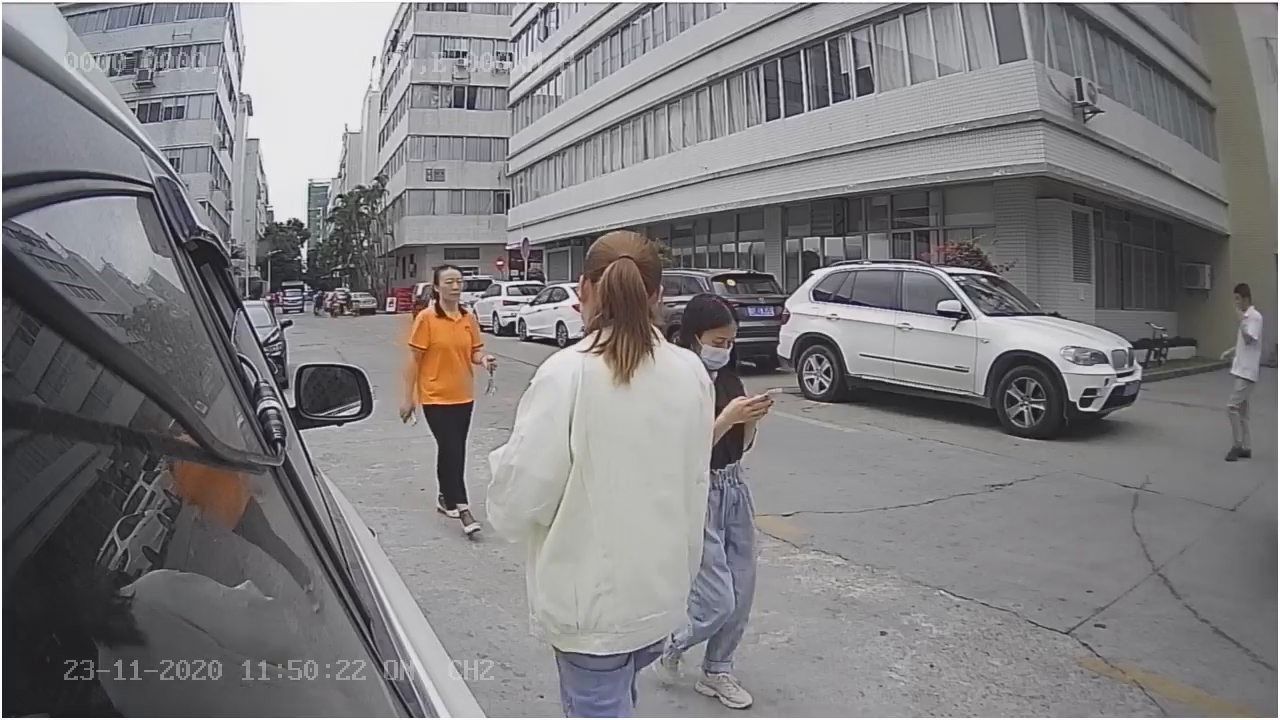person: (396, 260, 489, 543)
